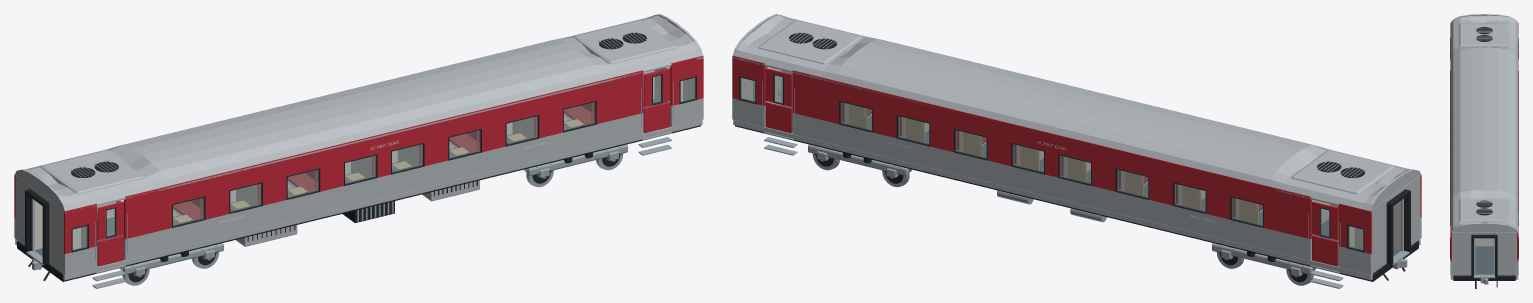
The model's file is LHB_1A.fbx.
The picture shows the model from 3 angles, left to right: view 1: azimuth 30°, elevation 25°; view 2: azimuth 150°, elevation 25°; view 3: azimuth 270°, elevation 25°; orthographic projection. The views are drawn at different scales.
Parts seen in each view (by area): view 1: ROOF_arch, BODYSIDE_sill.001, BODYSIDE_header.001, UNDERFRAME_edge, AC_ROOF_end_package.001, AC_ROOF_end_package, UNDERFRAME_main, BODYSIDE_window_pillar.010, BODYSIDE_window_pillar.002, END_wall, END_wall.001, BOGIE_sideframe_FRONT (+26 smaller); view 2: ROOF_arch, BODYSIDE_sill.004, BODYSIDE_header.004, UNDERFRAME_edge.001, AC_ROOF_end_package.001, AC_ROOF_end_package, UNDERFRAME_main, BODYSIDE_window_pillar.023, BODYSIDE_window_pillar.015, END_wall.001, INTERIOR_floor, END_wall (+23 smaller); view 3: ROOF_arch, AC_ROOF_end_package.001, AC_ROOF_end_package, END_wall.002, END_wall.003, INTERIOR_floor, ROOF_endcap.001, UNDERFRAME_main, CABIN_end_partition, BODYSIDE_header.001, BODYSIDE_header.004, ROOF_endcap (+8 smaller).
Boxes of the visible parts, left/top/right/bottom form: ROOF_arch: left=14, top=15, right=703, bottom=213; BODYSIDE_sill.001: left=124, top=113, right=643, bottom=260; BODYSIDE_header.001: left=124, top=70, right=643, bottom=216; UNDERFRAME_edge: left=63, top=119, right=702, bottom=280; AC_ROOF_end_package.001: left=573, top=20, right=677, bottom=64; AC_ROOF_end_package: left=41, top=150, right=144, bottom=194; UNDERFRAME_main: left=17, top=125, right=700, bottom=281; BODYSIDE_window_pillar.010: left=596, top=89, right=643, bottom=124; BODYSIDE_window_pillar.002: left=124, top=205, right=171, bottom=239; END_wall: left=46, top=198, right=63, bottom=273; END_wall.001: left=15, top=175, right=34, bottom=251; BOGIE_sideframe_FRONT: left=527, top=144, right=627, bottom=175; ROOF_arch: left=732, top=15, right=1421, bottom=213; BODYSIDE_sill.004: left=792, top=113, right=1311, bottom=260; BODYSIDE_header.004: left=792, top=70, right=1311, bottom=216; UNDERFRAME_edge.001: left=733, top=119, right=1372, bottom=280; AC_ROOF_end_package.001: left=758, top=20, right=862, bottom=64; AC_ROOF_end_package: left=1291, top=150, right=1394, bottom=194; UNDERFRAME_main: left=735, top=125, right=1418, bottom=281; BODYSIDE_window_pillar.023: left=792, top=89, right=839, bottom=124; BODYSIDE_window_pillar.015: left=1264, top=205, right=1311, bottom=239; END_wall.001: left=1372, top=198, right=1389, bottom=273; INTERIOR_floor: left=781, top=99, right=1400, bottom=265; END_wall: left=1401, top=175, right=1420, bottom=251; ROOF_arch: left=1450, top=14, right=1518, bottom=233; AC_ROOF_end_package.001: left=1459, top=198, right=1509, bottom=222; AC_ROOF_end_package: left=1459, top=23, right=1509, bottom=47; END_wall.002: left=1452, top=232, right=1475, bottom=275; END_wall.003: left=1493, top=232, right=1516, bottom=275; INTERIOR_floor: left=1475, top=246, right=1493, bottom=274; ROOF_endcap.001: left=1452, top=223, right=1517, bottom=232; UNDERFRAME_main: left=1453, top=275, right=1515, bottom=280; CABIN_end_partition: left=1475, top=238, right=1493, bottom=246; BODYSIDE_header.001: left=1450, top=43, right=1450, bottom=212; BODYSIDE_header.004: left=1518, top=43, right=1518, bottom=212; ROOF_endcap: left=1450, top=14, right=1516, bottom=23.
Bounding box in the file's own units: 326 × 2416 × 406.
